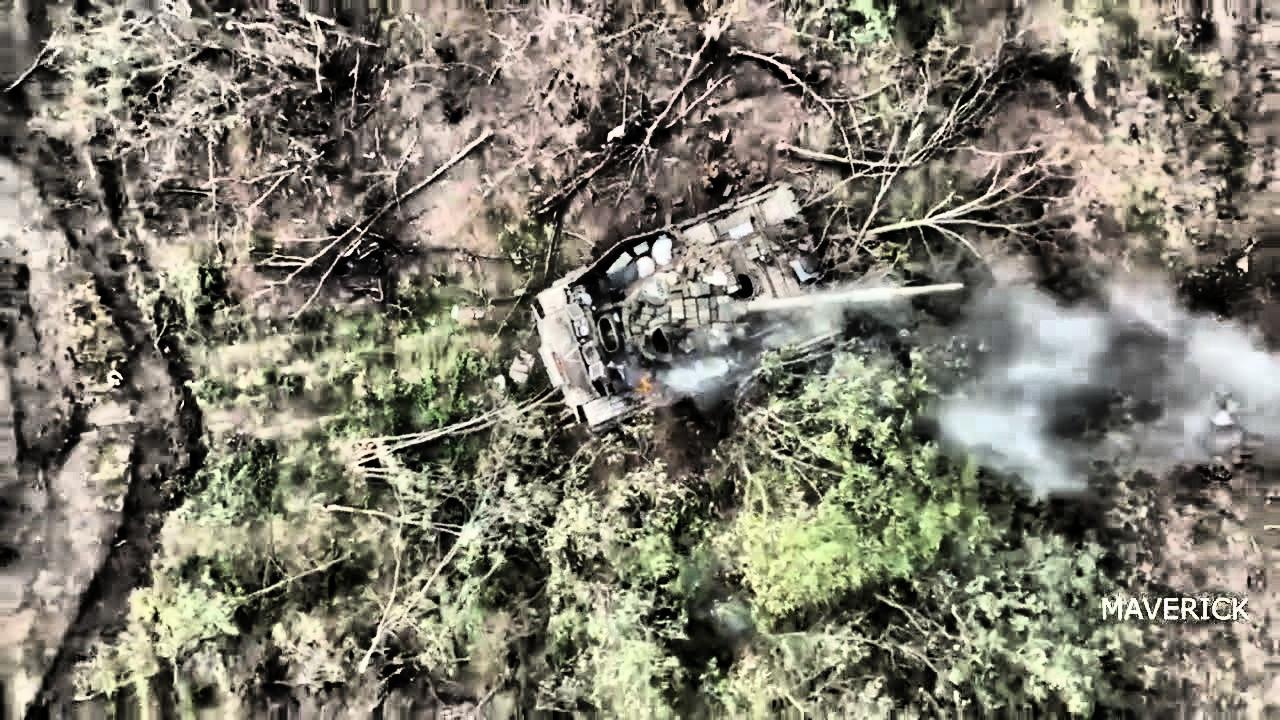military-vehicle: (536, 184, 958, 428)
